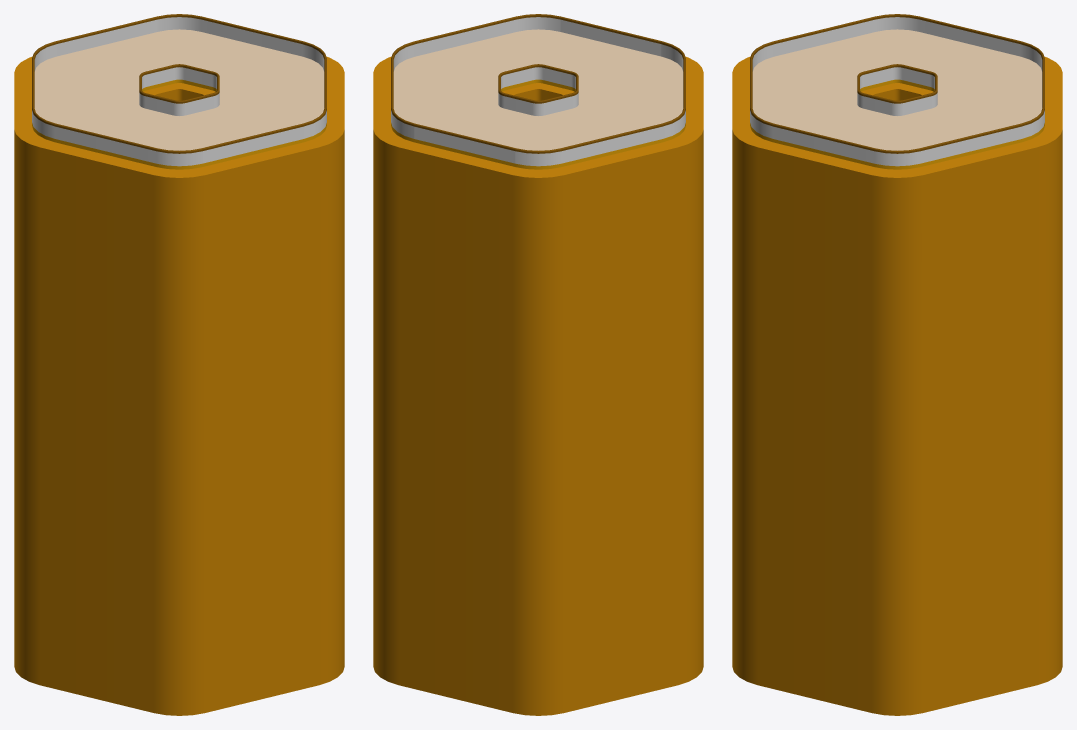
3 views of the same model, side by side, from view 1: azimuth 30°, elevation 25°; view 2: azimuth 150°, elevation 25°; view 3: azimuth 270°, elevation 25° (orthographic).
Parts seen in each view (by area): view 1: base36, base1, polySurface1171, polySurface1172, polySurface1173, polySurface1221, polySurface1220; view 2: base36, base1, polySurface1171, polySurface1172, polySurface1173, polySurface1221, polySurface1220; view 3: base36, base1, polySurface1172, polySurface1171, polySurface1221, polySurface1173, polySurface1220.
Boxes of the visible parts, x1,y1,x2,y2 form: base36: [14, 56, 344, 715]; base1: [32, 29, 326, 169]; polySurface1171: [32, 44, 203, 166]; polySurface1172: [157, 17, 326, 138]; polySurface1173: [139, 67, 219, 115]; polySurface1221: [32, 14, 326, 153]; polySurface1220: [139, 64, 219, 103]; base36: [373, 56, 703, 715]; base1: [391, 29, 685, 169]; polySurface1171: [514, 44, 685, 166]; polySurface1172: [391, 17, 560, 138]; polySurface1173: [498, 67, 578, 115]; polySurface1221: [391, 14, 685, 153]; polySurface1220: [498, 64, 578, 103]; base36: [732, 56, 1062, 715]; base1: [750, 29, 1044, 169]; polySurface1172: [750, 110, 1044, 166]; polySurface1171: [752, 17, 1042, 71]; polySurface1221: [750, 14, 1044, 153]; polySurface1173: [857, 67, 937, 115]; polySurface1220: [857, 64, 937, 103].
Bounding box in the file's own units: 70 × 117 × 63.27.
